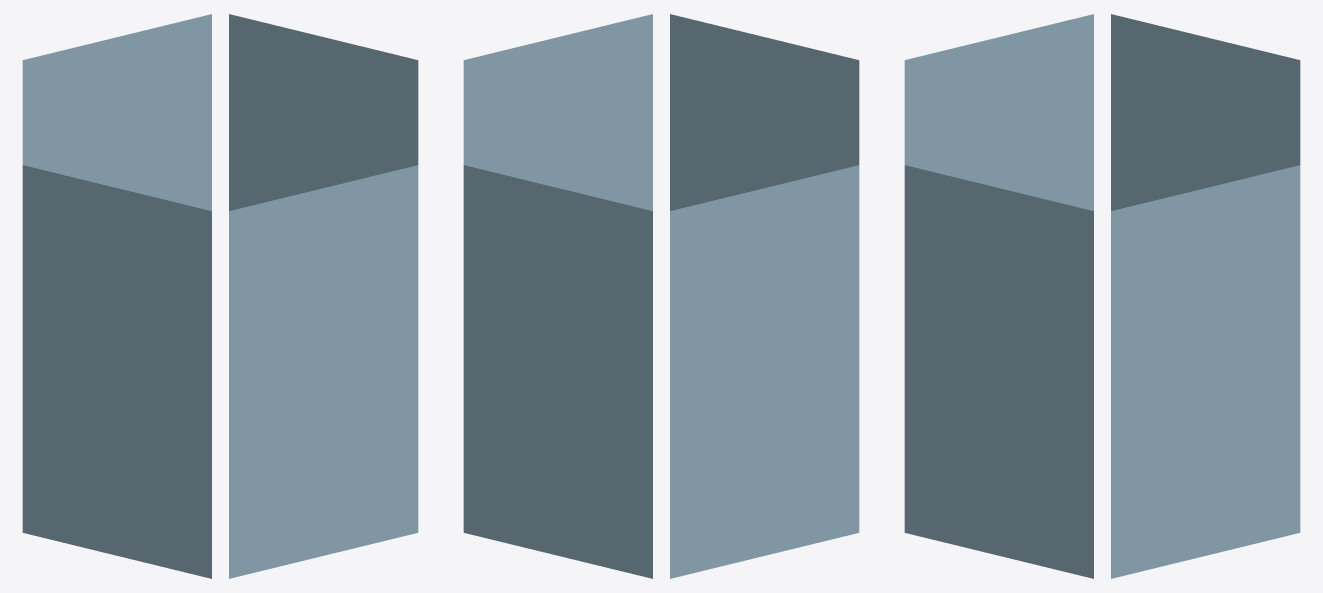
File: FairyTale304.gltf
3 views of the same model, side by side, from view 1: azimuth 30°, elevation 25°; view 2: azimuth 150°, elevation 25°; view 3: azimuth 270°, elevation 25° (orthographic).
Parts seen in each view (by area): view 1: 网格.270_1; view 2: 网格.270_1; view 3: 网格.270_1.
Part boxes in pixels (bbox=[...]): 网格.270_1: bbox=[22, 14, 418, 578]; 网格.270_1: bbox=[463, 14, 859, 578]; 网格.270_1: bbox=[904, 14, 1300, 578].
Size of the model in its own units: 0.1731 by 0.1505 by 0.153.
